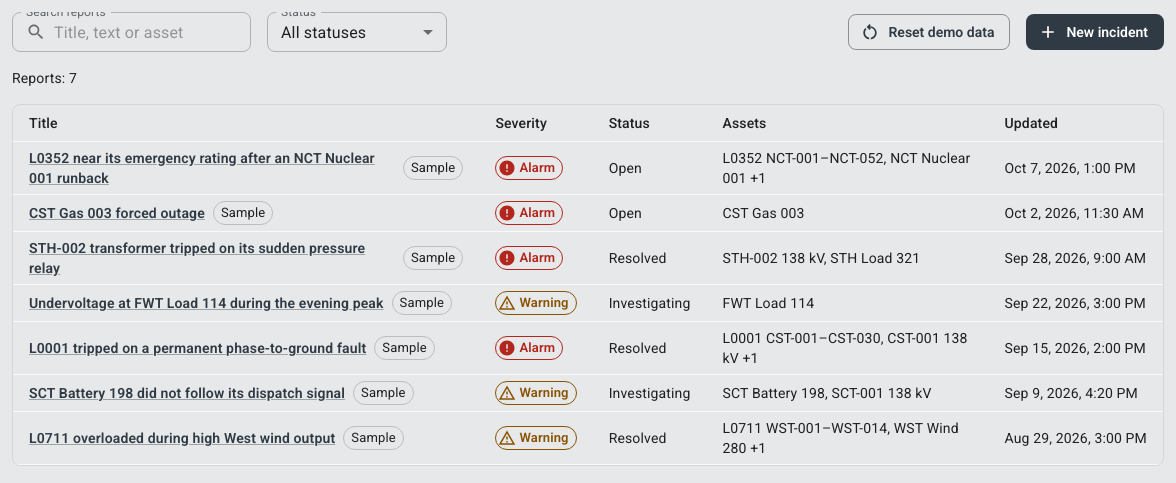
it: IncidentList › lists the samples and filters them
Step 1. Type "insulator" into the search field labelled "Search reports" → [152, 32], box [54, 12, 251, 52]
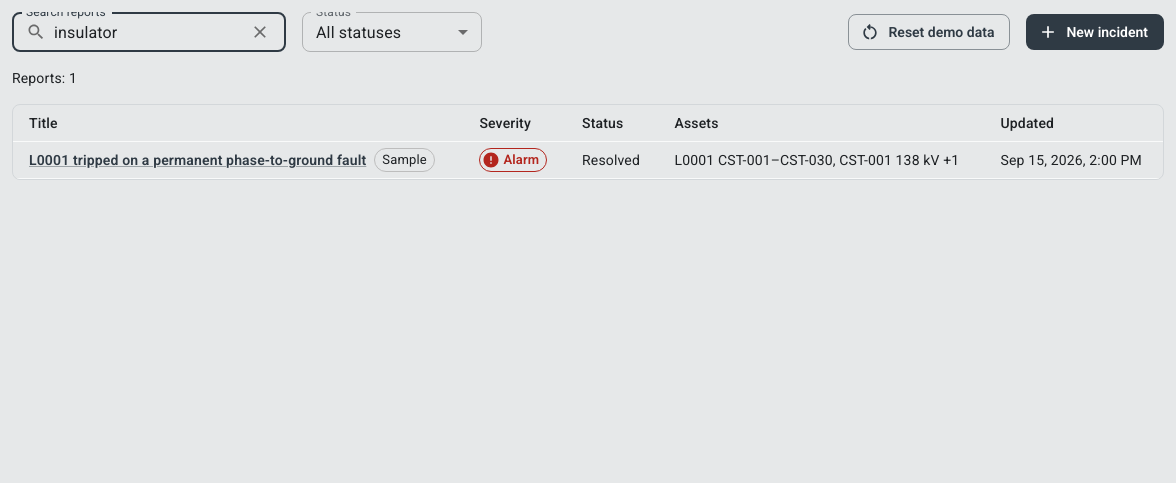
Expected: the number of rows is 2, [13, 105, 1163, 142]; [13, 142, 1163, 178]
Expected: the text "Reports: 1" is shown, [12, 70, 77, 86]
Step 2. Type " nothing" into the search field labelled "Search reports" → [146, 32], box [54, 12, 237, 52]
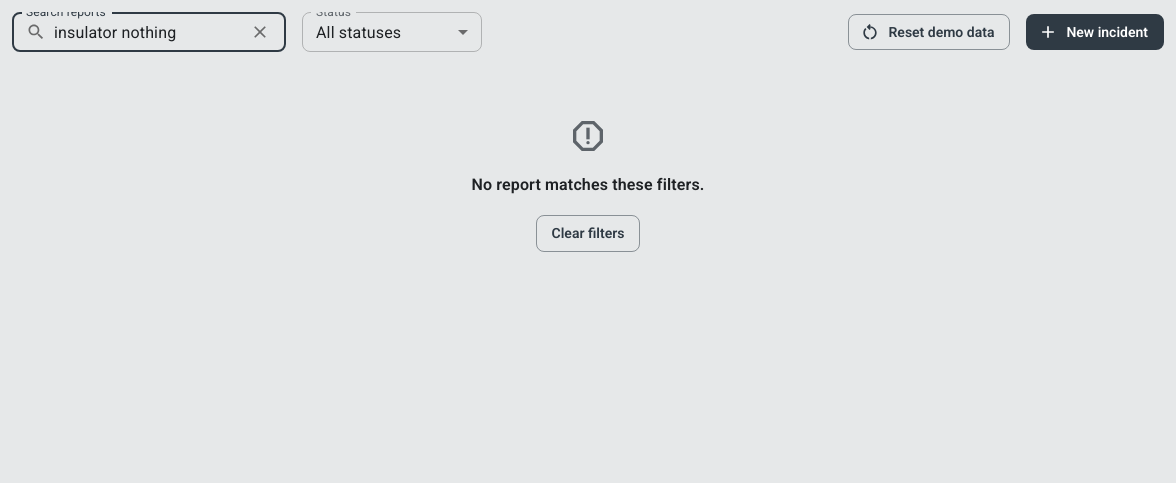
Expected: the heading "No report matches these filters." is shown, [471, 171, 704, 199]
Step 3. Click the button "Clear filters" → [588, 233], box [536, 215, 640, 252]
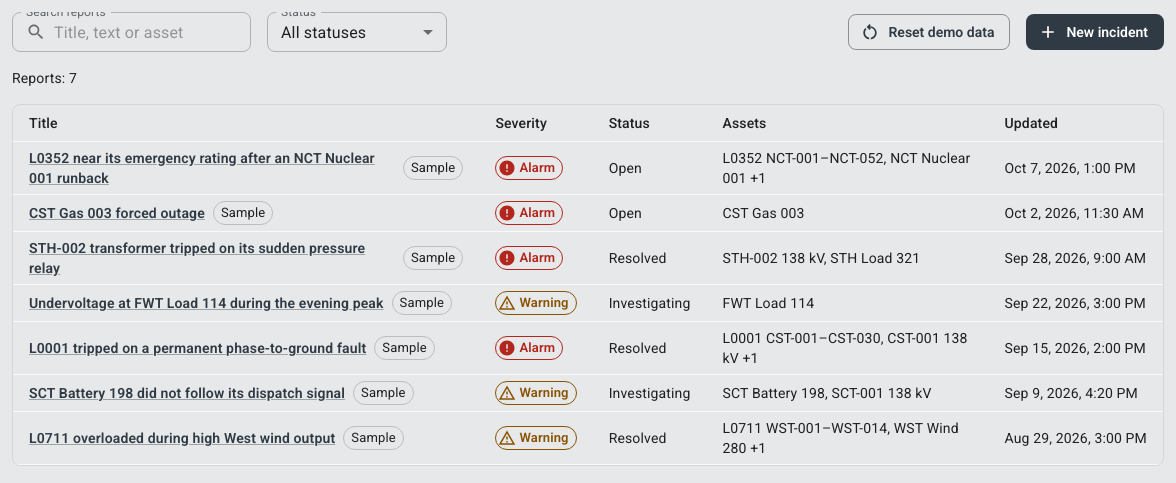
Expected: the number of rows is 8
